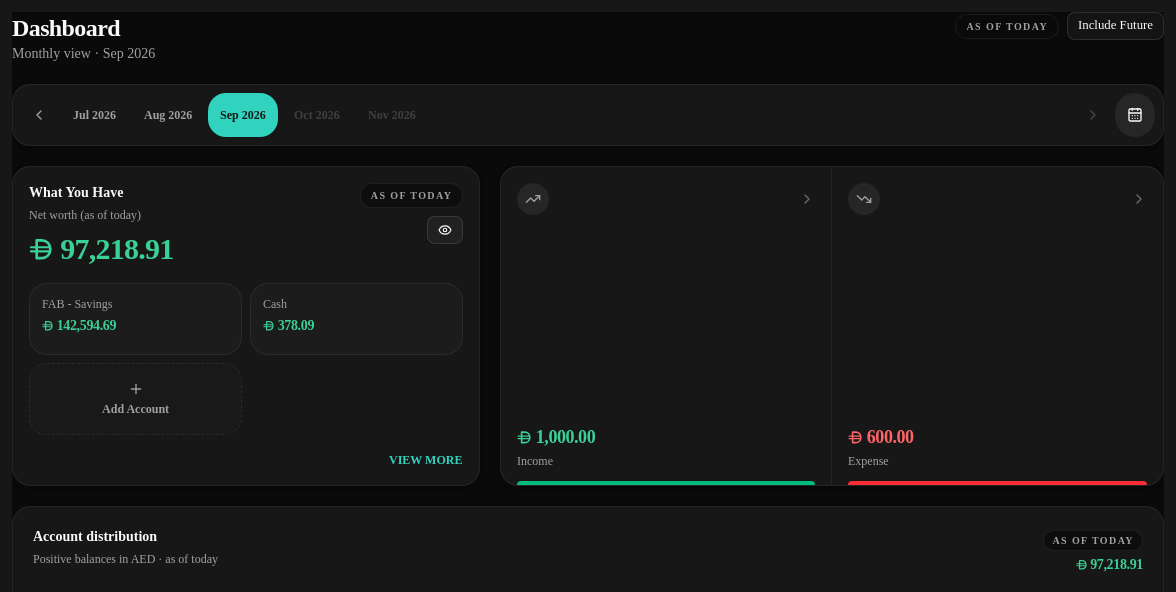
Test: dashboard UI rebuild › values balances at the end of a past period instead of today
The width and height of the screenshot is (1176, 592).
Expected: the text "Net worth (as of today)" is shown, [29,208,141,222]
Click the button named "Previous month" at (39, 115), box [21,93,57,137]
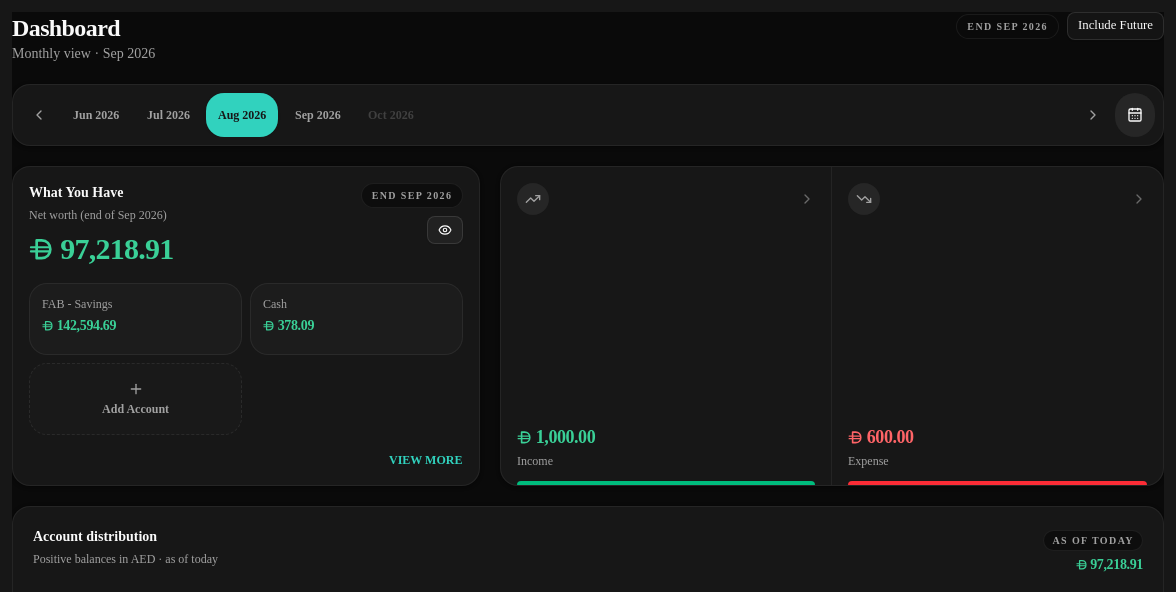
Now the text "Net worth (end of Sep 2026)" is shown, box [29,207,174,223]
Now the text "End Sep 2026" in the row of "Dashboard" is shown, box [967,20,1048,32]
Now the text "Net worth (as of today)" is gone
